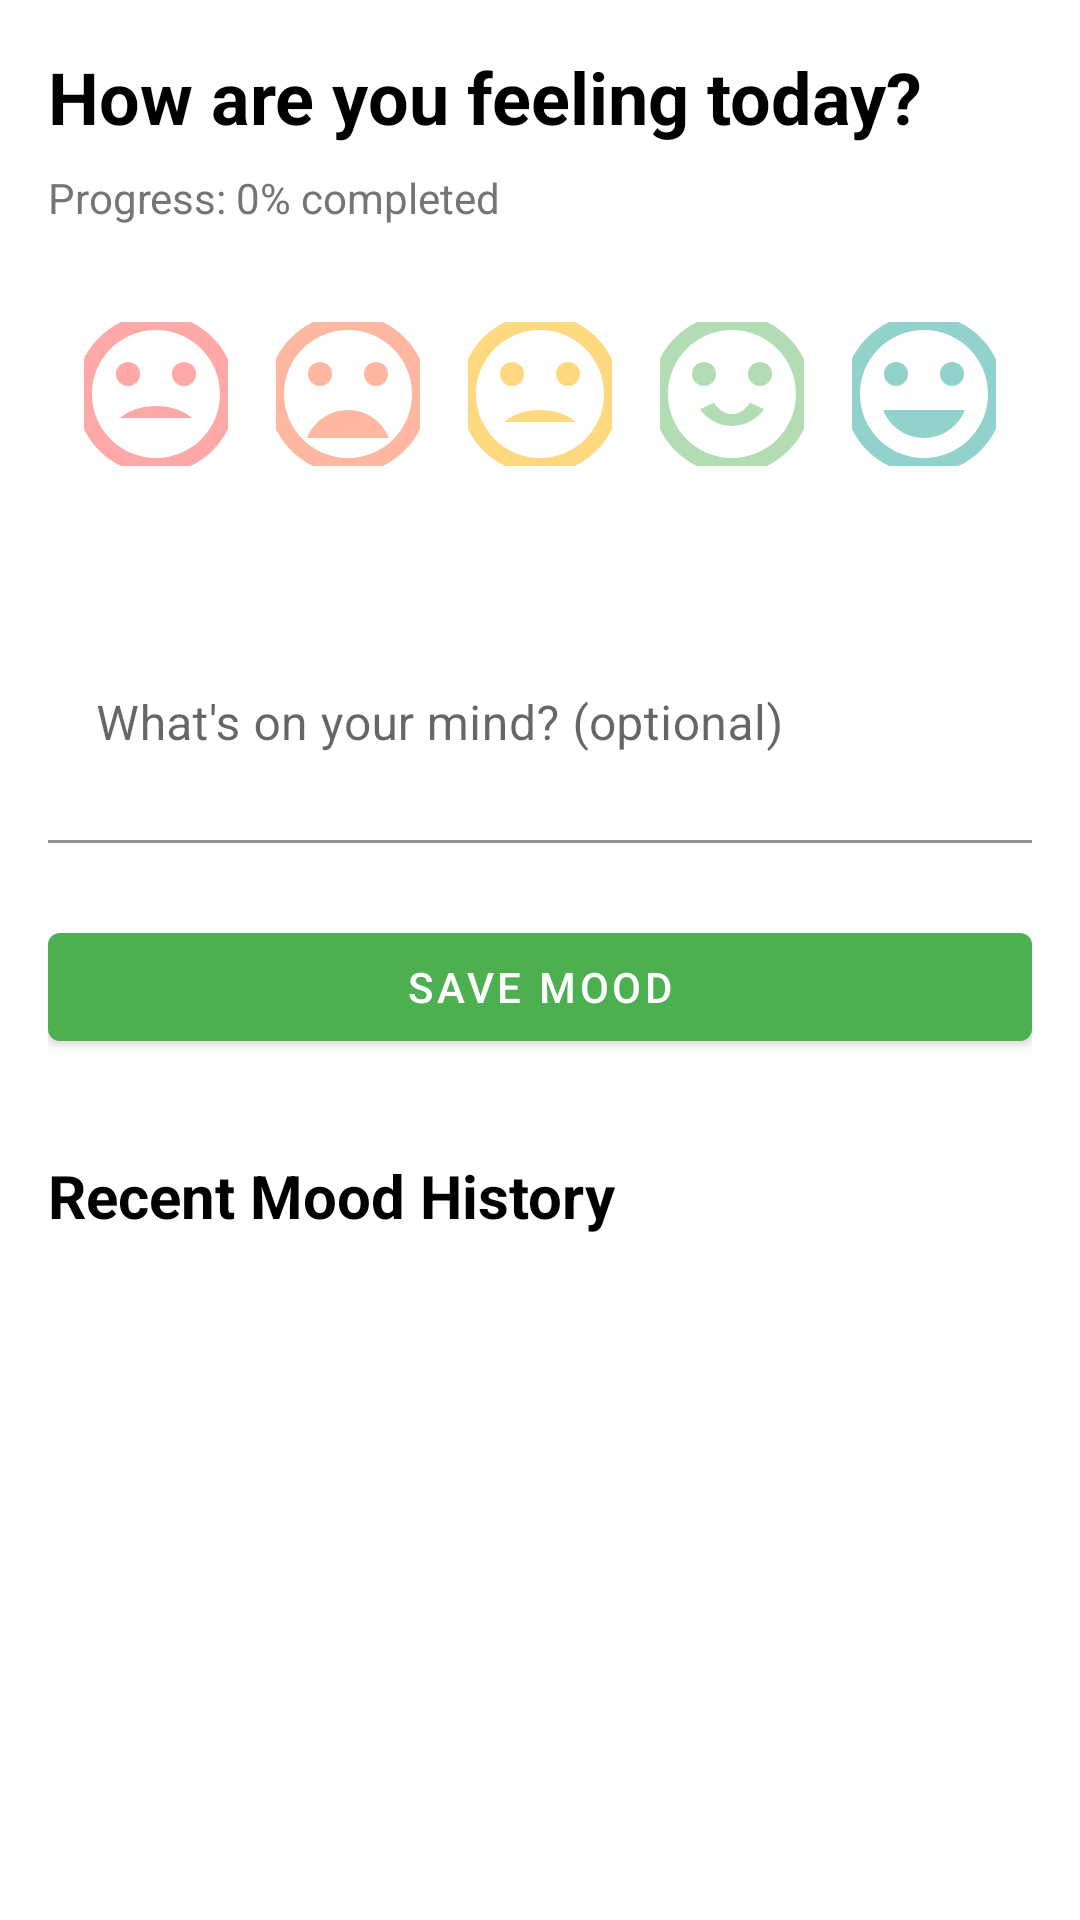

Screen size 1080*1920. Icon name, then its box in pixels as [left=x1, top=y1, right=x2, bottom=y2]:
emoji bad: [left=276, top=322, right=420, bottom=466]
emoji good: [left=660, top=322, right=804, bottom=466]
emoji neutral: [left=468, top=322, right=612, bottom=466]
emoji very bad: [left=84, top=322, right=228, bottom=466]
emoji very good: [left=852, top=322, right=996, bottom=466]
